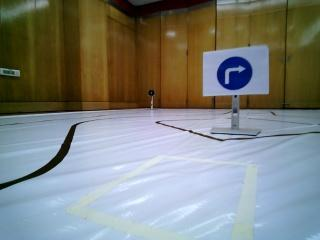right: (203, 53, 261, 94)
